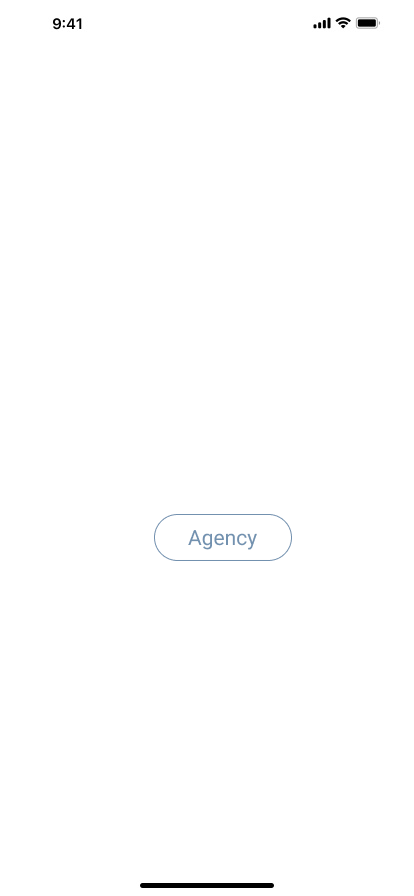Buttons: (154, 514, 300, 561)
Home Indicator: (0, 862, 414, 896)
Status Bar: (0, 0, 414, 44)
